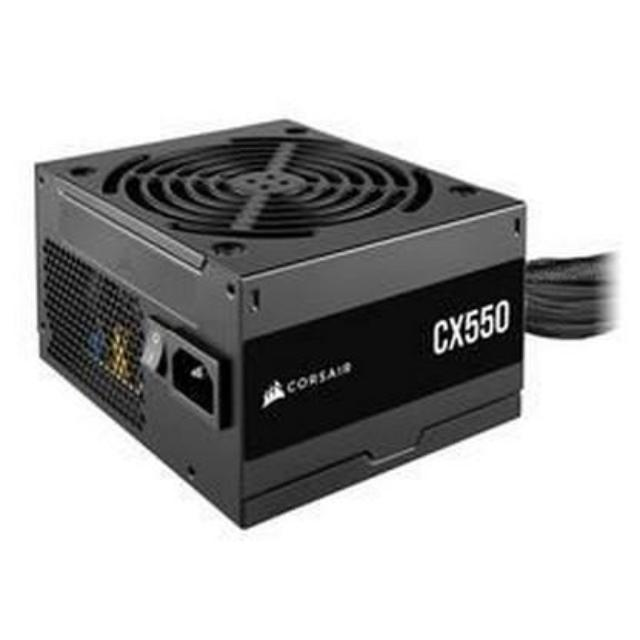PSU: (30, 106, 538, 528)
